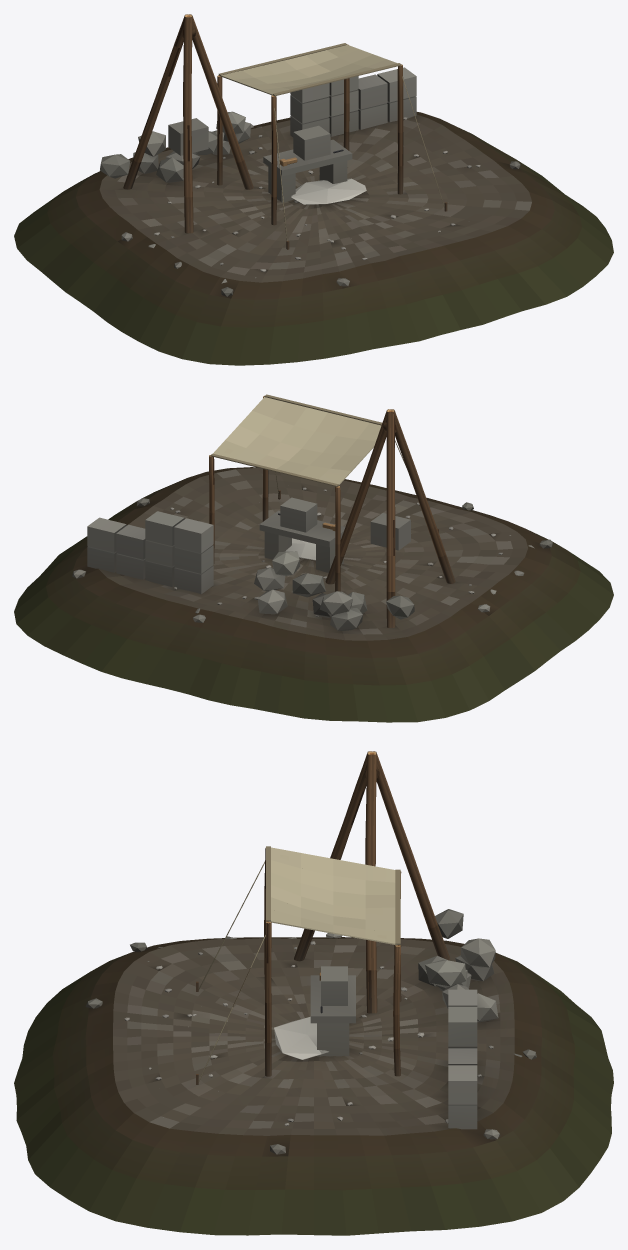
Rendered from tasci.glb.
3 renders of one model, top to bottom at view 1: azimuth 30°, elevation 25°; view 2: azimuth 150°, elevation 25°; view 3: azimuth 270°, elevation 25°, orthographic. The views are drawn at different scales.
Parts seen in each view (by area): view 1: stone-ground-001, stone-dressed-006, canvas-awning-001, stone-work-003, stone-rough-005, wood-poles-004, log-003, log-001, log-002, wood-heap-002, stone-004, stone-found-002; view 2: stone-ground-001, canvas-awning-001, stone-dressed-006, stone-rough-005, stone-work-003, log-002, log-003, wood-poles-004, log-001, stone-004, stone-found-002; view 3: stone-ground-001, canvas-awning-001, stone-dressed-006, stone-rough-005, stone-work-003, wood-poles-004, log-002, log-001, wood-heap-002, stone-found-002, log-003.
Boxes of the visible parts, box(x1,y1,x2,y2) form: stone-ground-001: box(14, 112, 613, 365); stone-dressed-006: box(290, 67, 416, 137); canvas-awning-001: box(218, 43, 401, 96); stone-work-003: box(263, 125, 352, 202); stone-rough-005: box(100, 111, 250, 182); wood-poles-004: box(217, 44, 447, 249); log-003: box(183, 17, 193, 233); log-001: box(188, 14, 253, 189); log-002: box(123, 14, 188, 189); wood-heap-002: box(291, 178, 366, 204); stone-004: box(168, 118, 208, 155); stone-found-002: box(121, 117, 520, 296); stone-ground-001: box(14, 467, 613, 722); canvas-awning-001: box(210, 394, 382, 486); stone-dressed-006: box(87, 511, 213, 594); stone-rough-005: box(254, 551, 414, 630); stone-work-003: box(259, 497, 345, 572); log-002: box(386, 411, 395, 627); log-003: box(390, 409, 455, 583); wood-poles-004: box(209, 396, 438, 591); log-001: box(325, 409, 390, 584); stone-004: box(370, 513, 410, 550); stone-found-002: box(72, 487, 552, 622); stone-ground-001: box(14, 937, 613, 1235); canvas-awning-001: box(266, 846, 400, 945); stone-dressed-006: box(448, 989, 477, 1129); stone-rough-005: box(418, 909, 498, 1022); stone-work-003: box(310, 966, 355, 1056); wood-poles-004: box(196, 848, 401, 1084); log-002: box(372, 751, 449, 960); log-001: box(365, 754, 377, 1013); wood-heap-002: box(274, 1016, 328, 1059); stone-found-002: box(85, 933, 536, 1154); log-003: box(294, 751, 371, 961).
Bounding box in the file's own units: 10.18 × 4.82 × 9.27.
